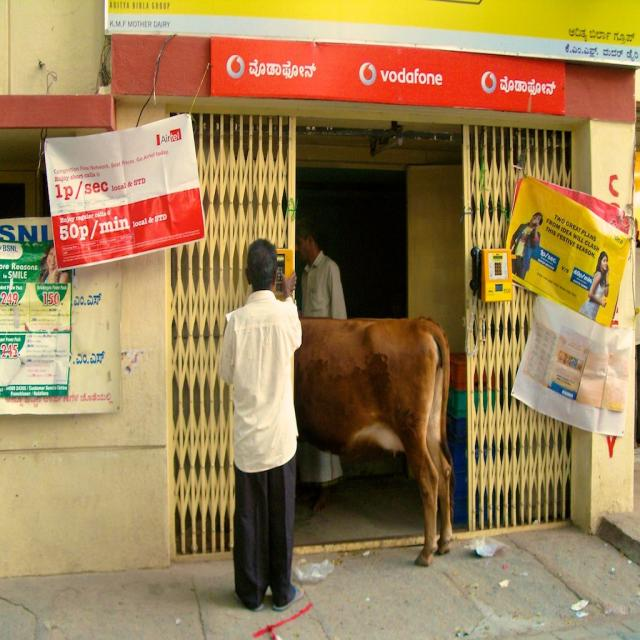cow: (295, 317, 454, 565)
